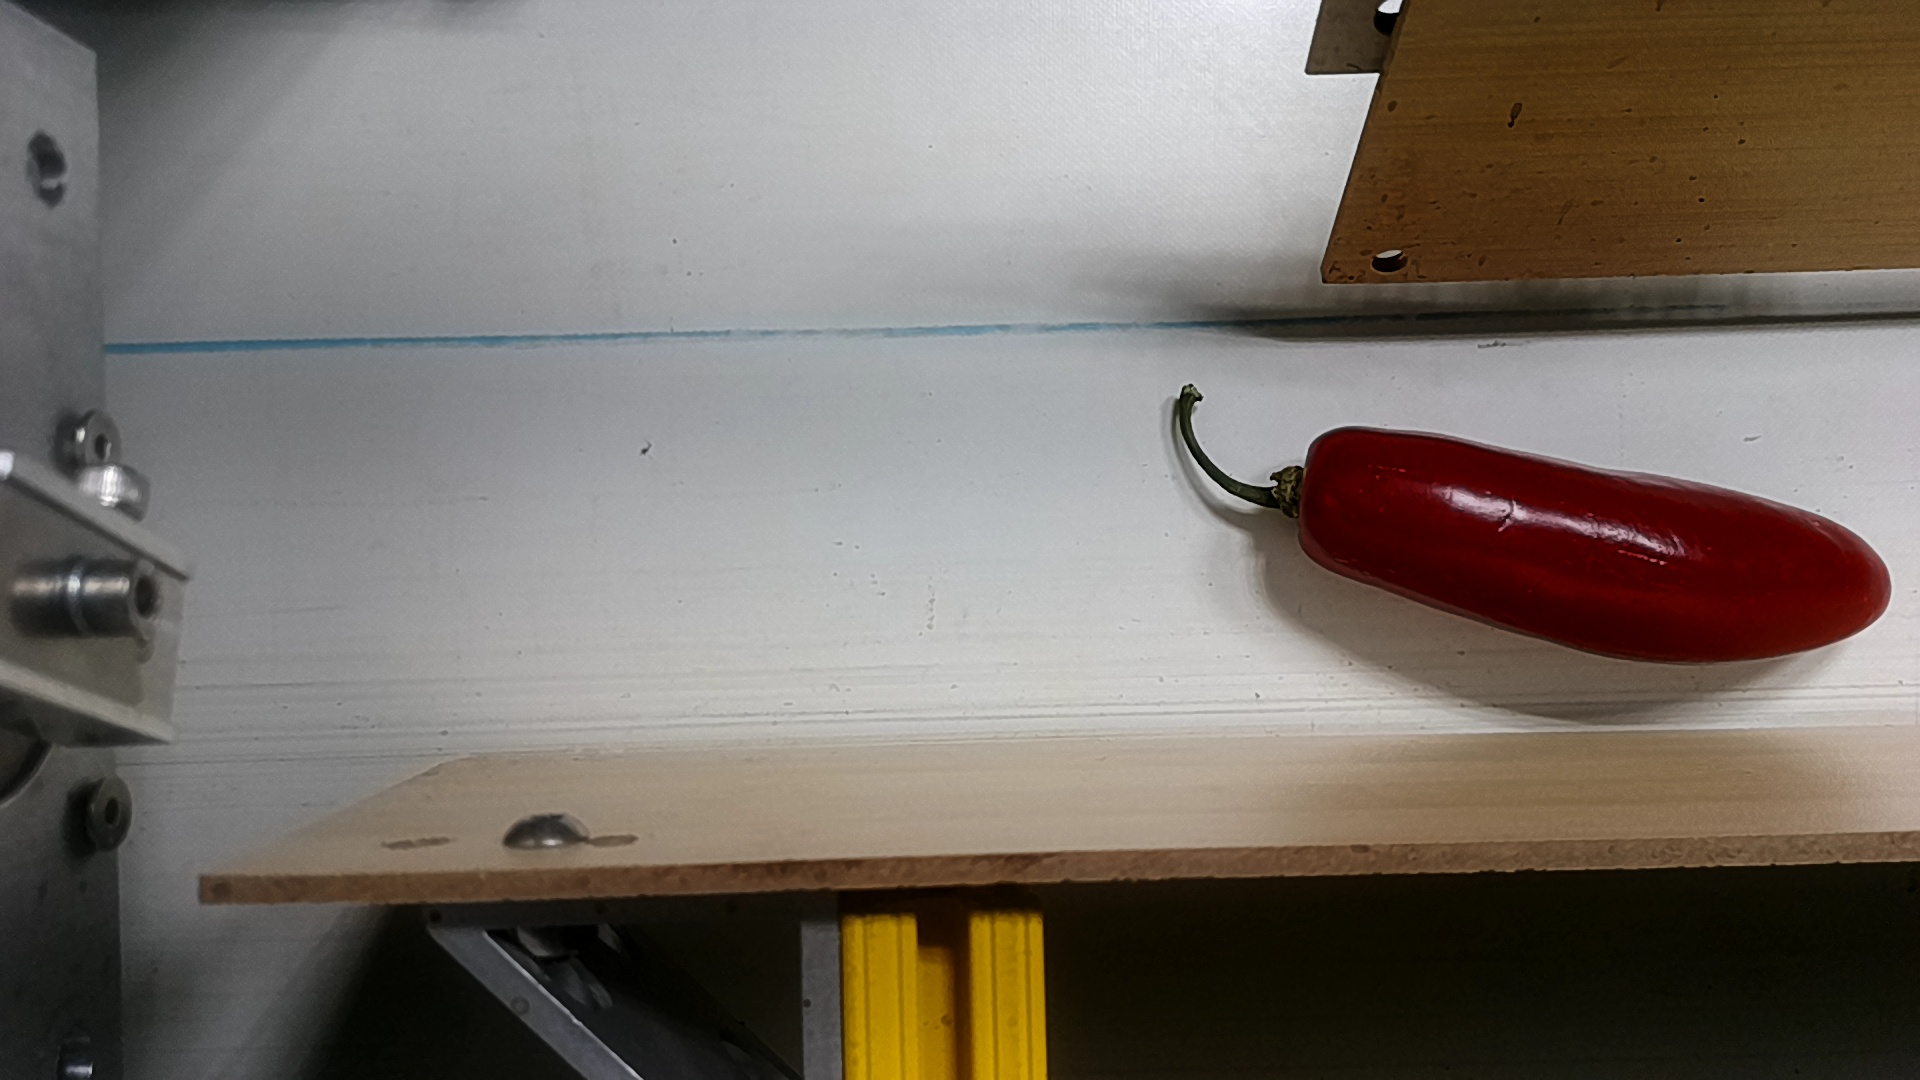Cut Point: (1269, 415, 1365, 575)
